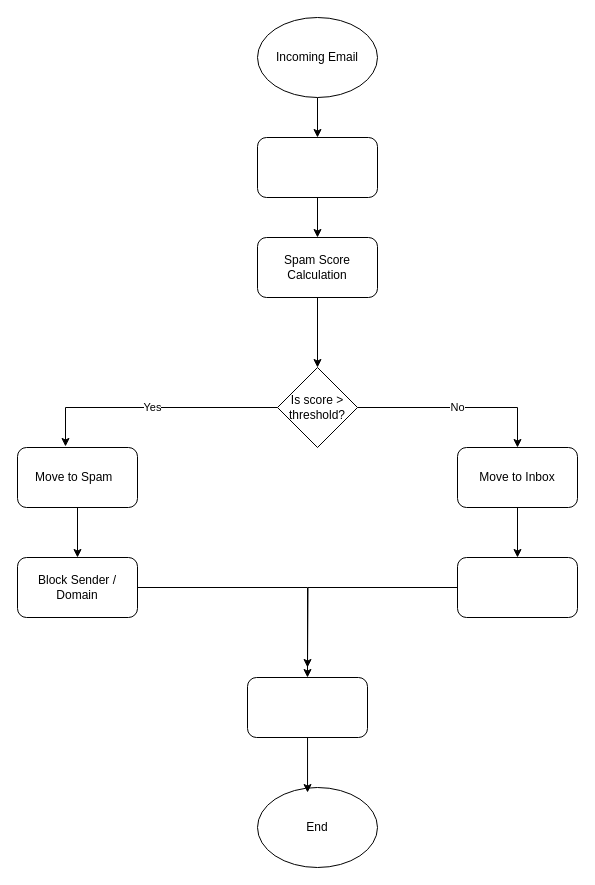
The diagram is 595 pixels wide and 885 high, and some of its shapes have lost their labels. The centre of each missing label's shape, as x and y in pixels:
"AI Classification" belongs at pixel 317 167.
"Categorize Email" belongs at pixel 517 587.
"Model Retraining" belongs at pixel 307 707.
